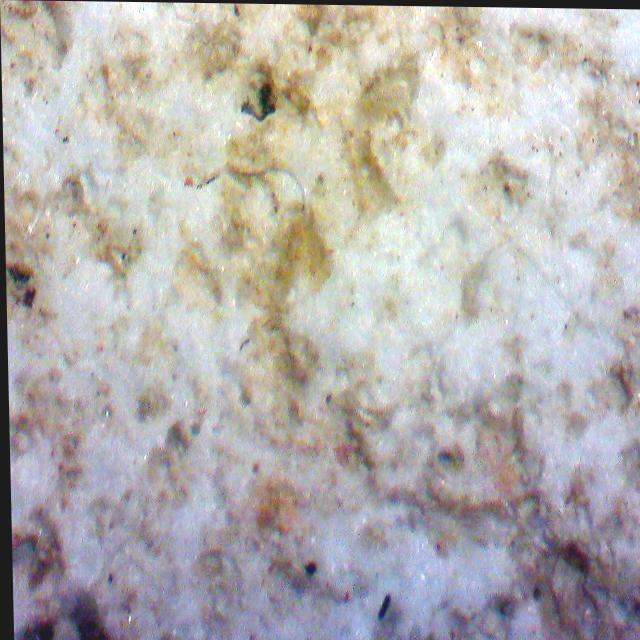microplastic: (195, 161, 309, 211)
